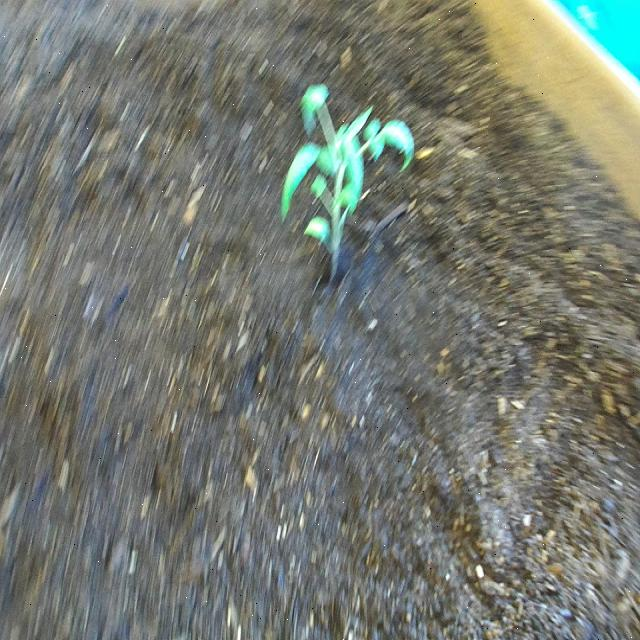Healthy: (276, 71, 424, 313)
